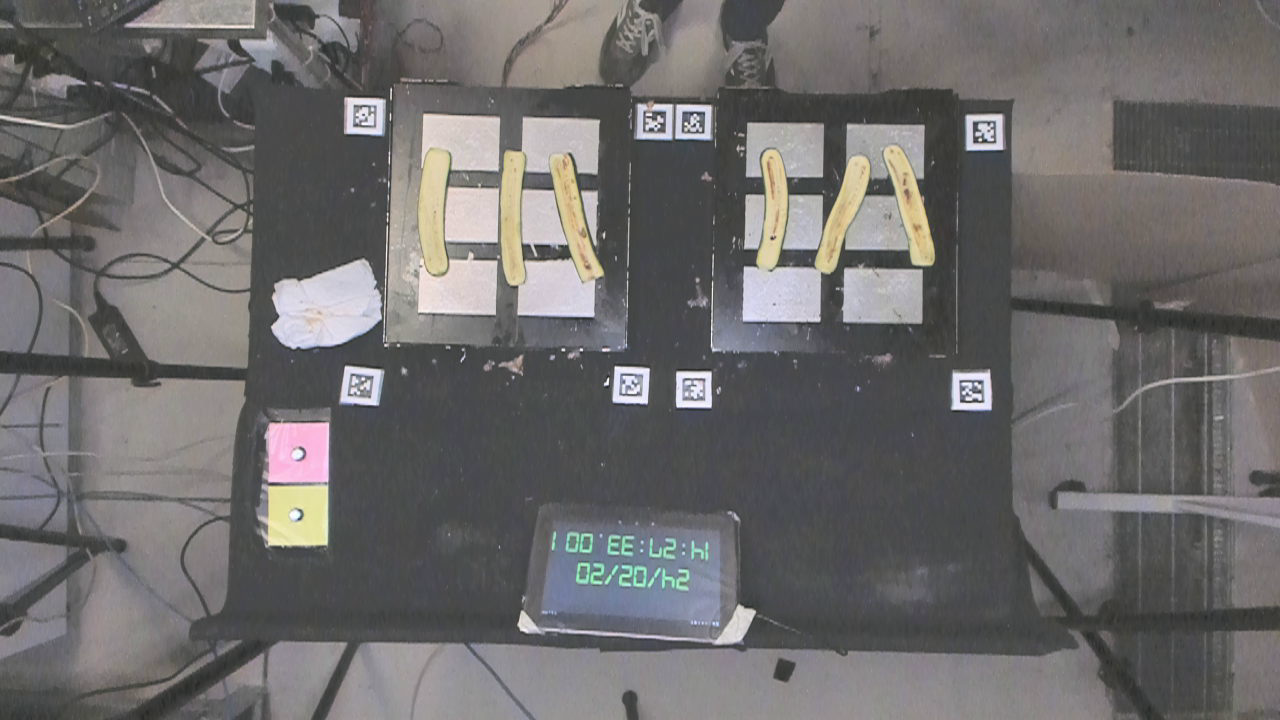marker: (263, 421, 333, 486)
zucchini: (544, 146, 610, 287), (881, 128, 942, 277), (818, 152, 869, 284), (494, 146, 535, 290), (416, 145, 454, 280), (753, 140, 789, 280)
